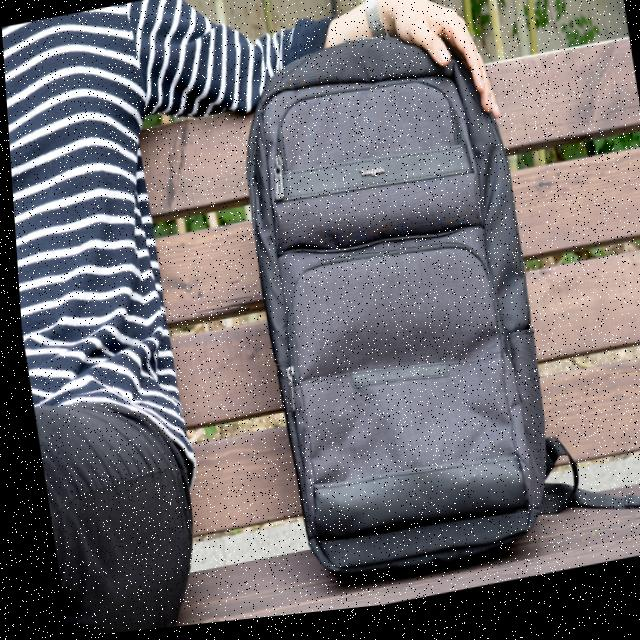backpack: (214, 15, 563, 609)
